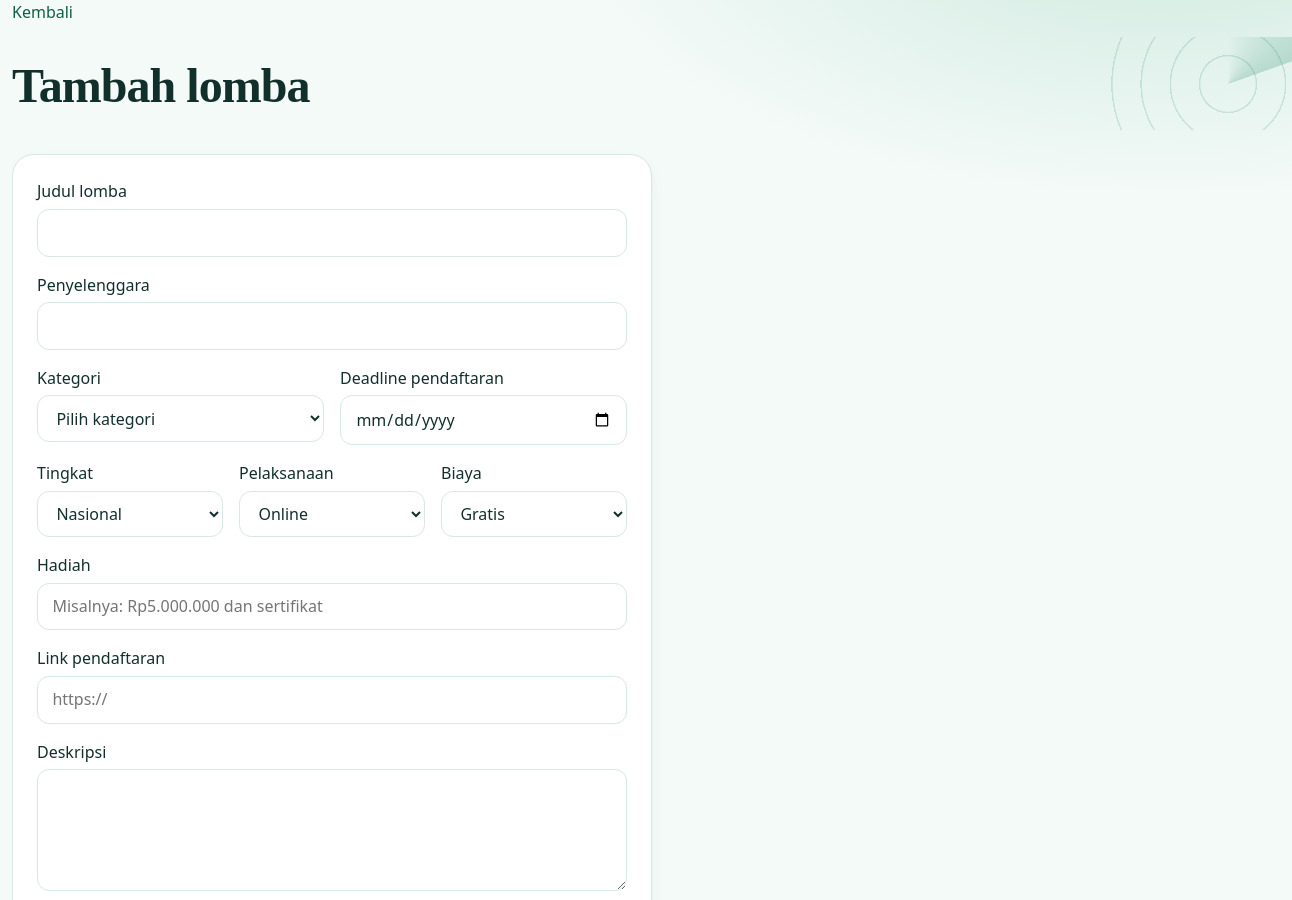
Test case: FormLomba: tambah › error dari server ditampilkan dan form dapat dikirim ulang
The width and height of the screenshot is (1292, 900).
Type "L" into the field labelled "Judul lomba". click: (332, 233)
box: [37,209,627,257]
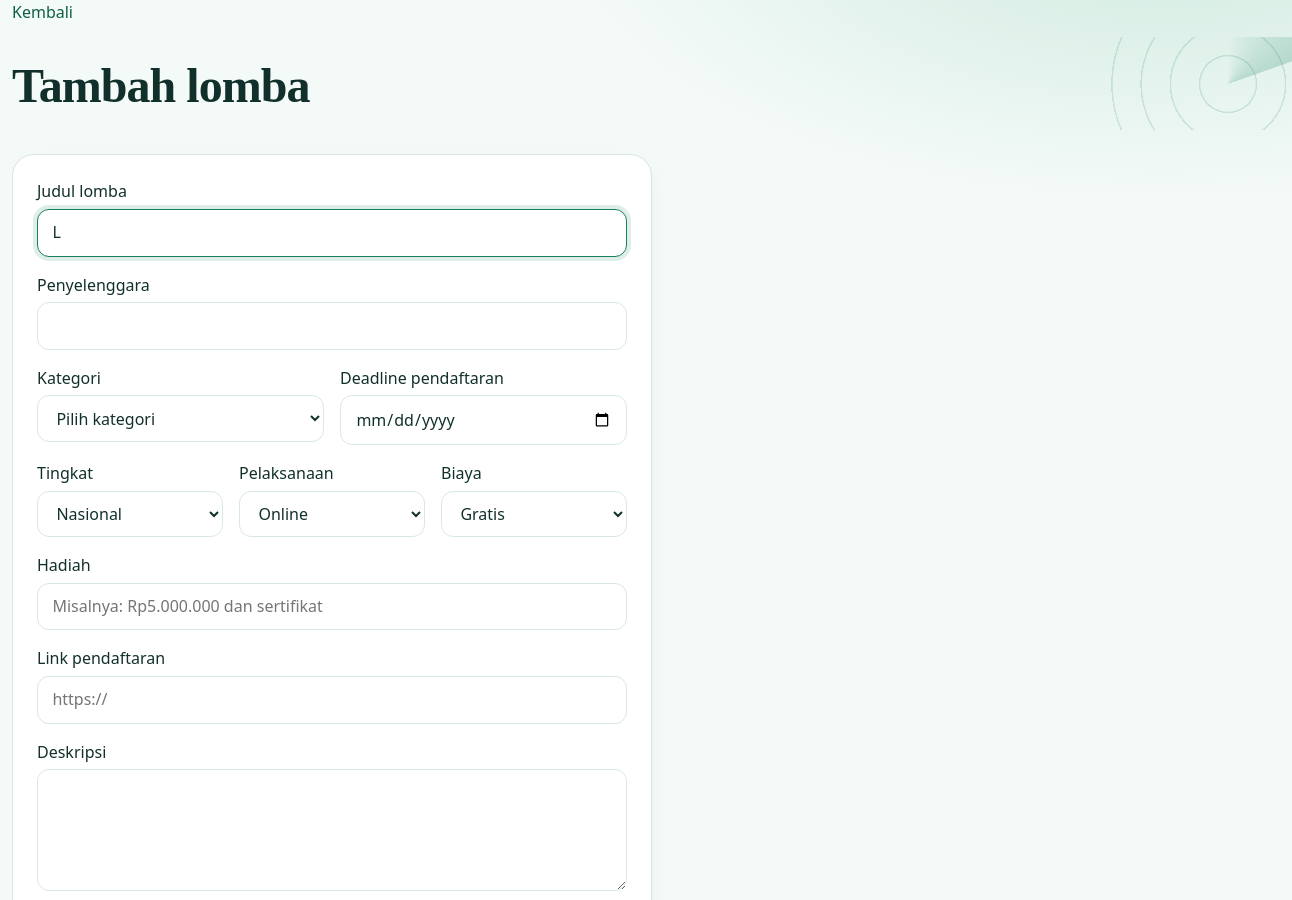
Type "P" into the field labelled "Penyelenggara". click: (332, 326)
box: [37,302,627,350]
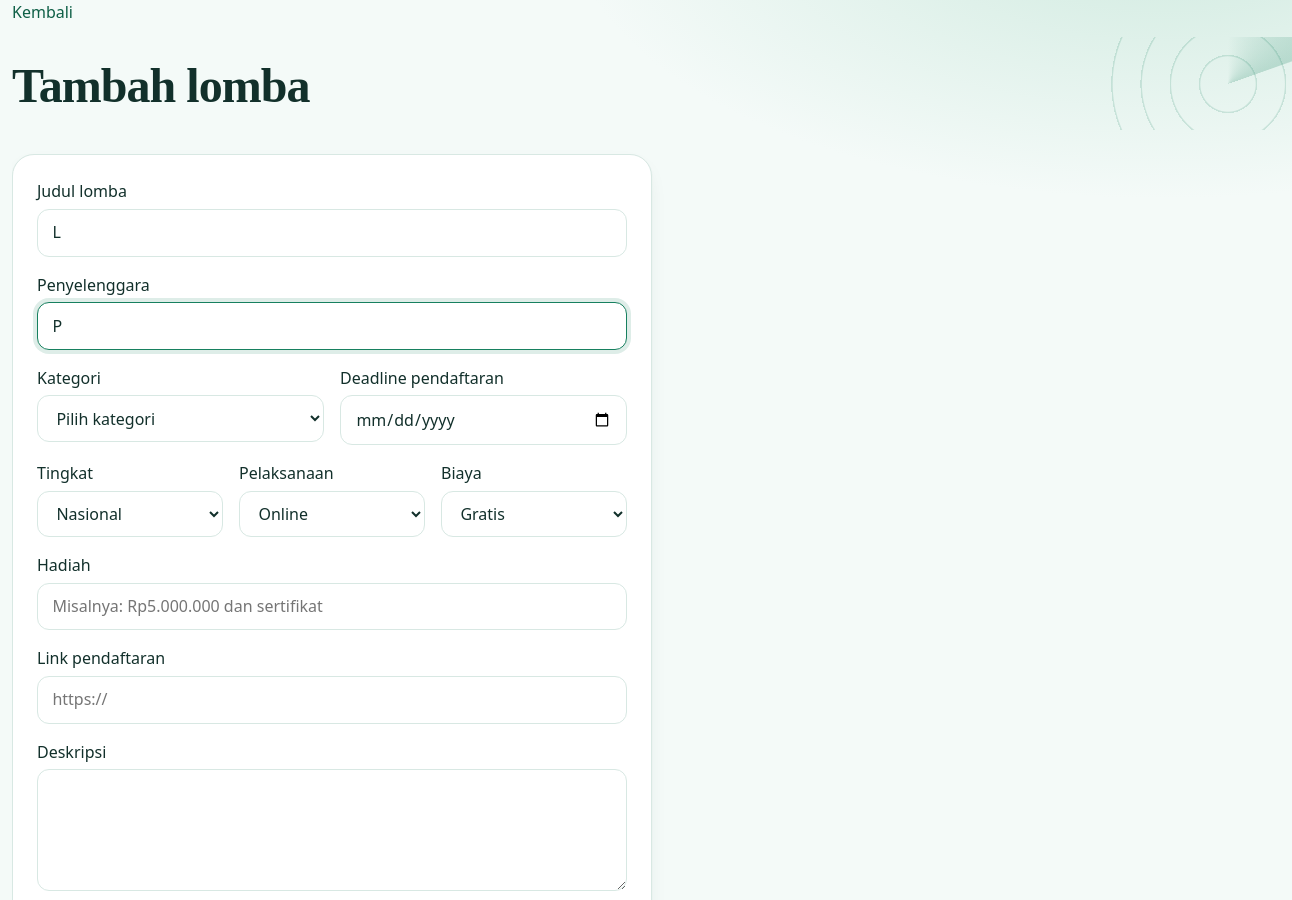
Select "Programming" in the dropdown labelled "Kategori". click: (180, 419)
box: [37,395,324,442]
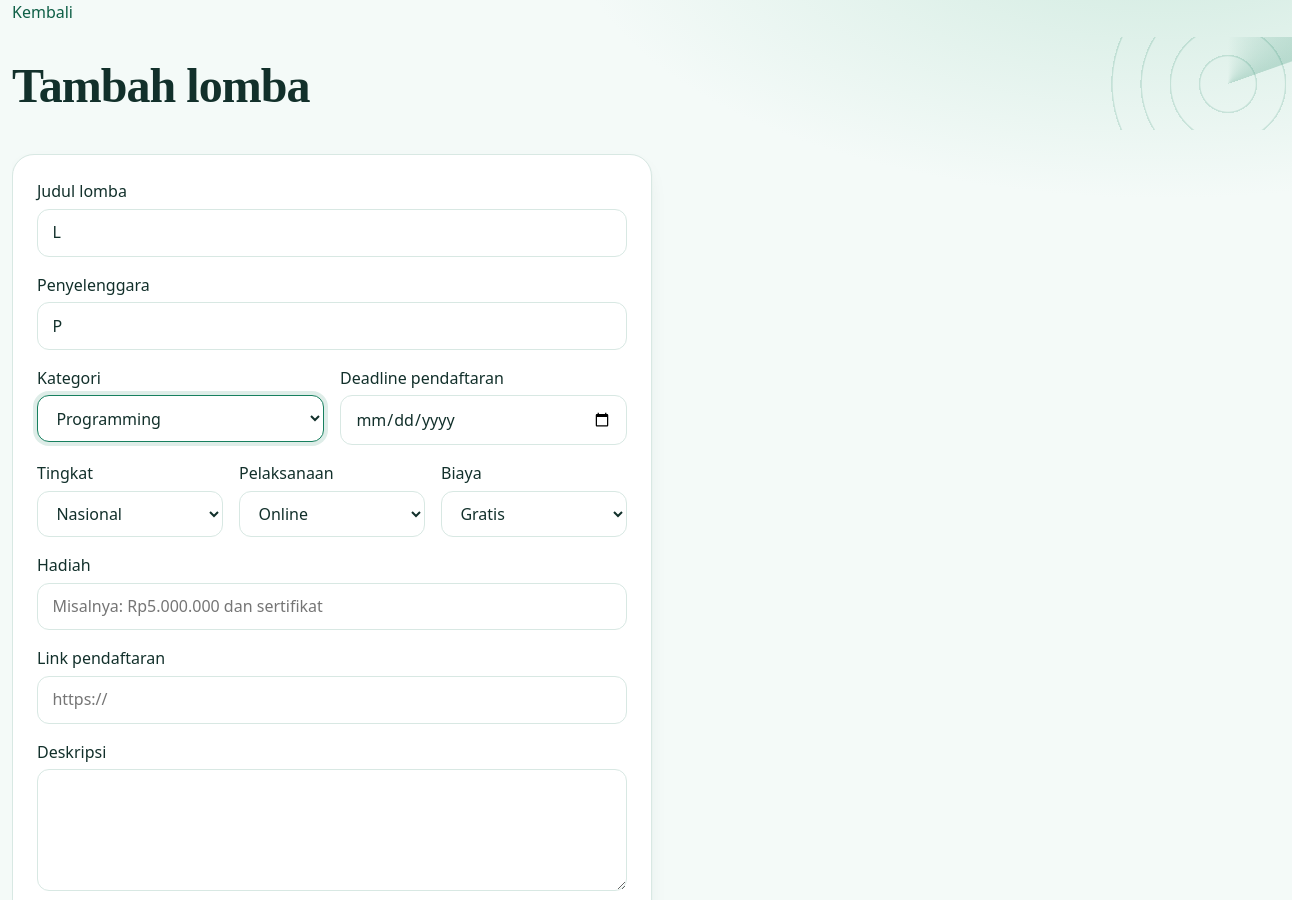
Type "2026-12-31" into the date field labelled "Deadline pendaftaran". click: (484, 420)
box: [340,395,627,445]
(page scrolled)
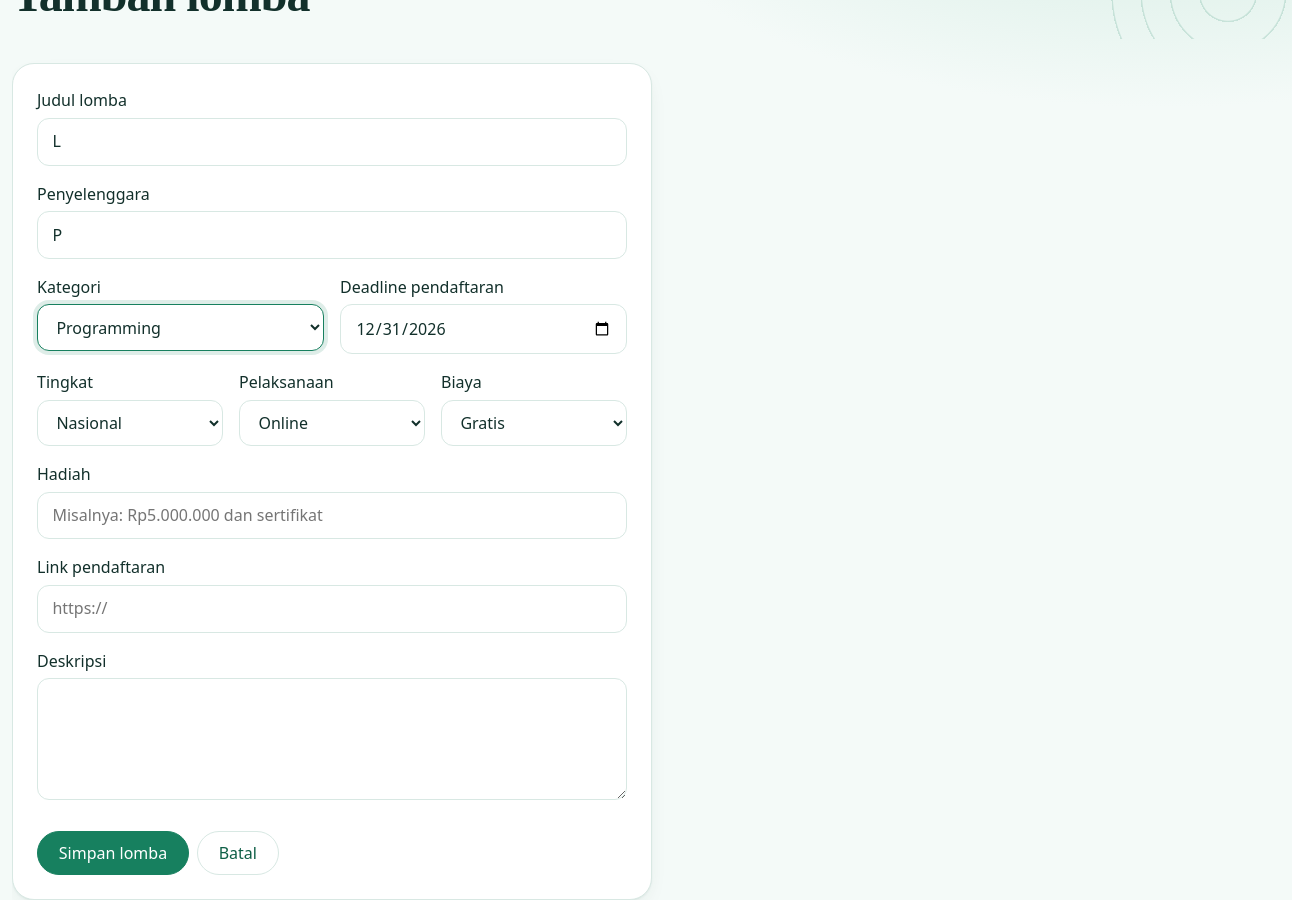
Click the button "Simpan lomba". click: (113, 853)
box: [37,831,189,875]
(page scrolled)
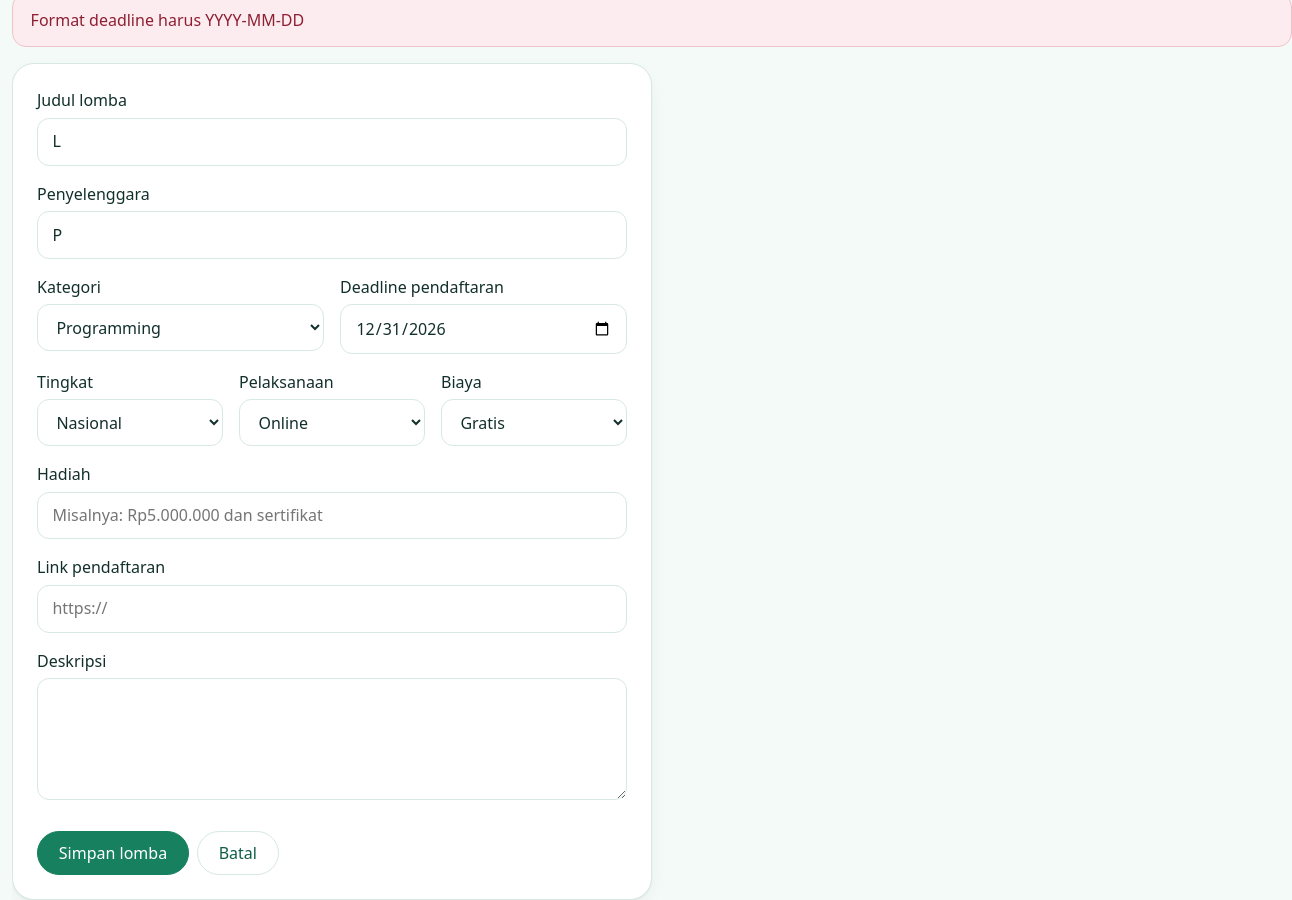
Result: the message reads "Format deadline harus YYYY-MM-DD" at [31,9,304,31]
